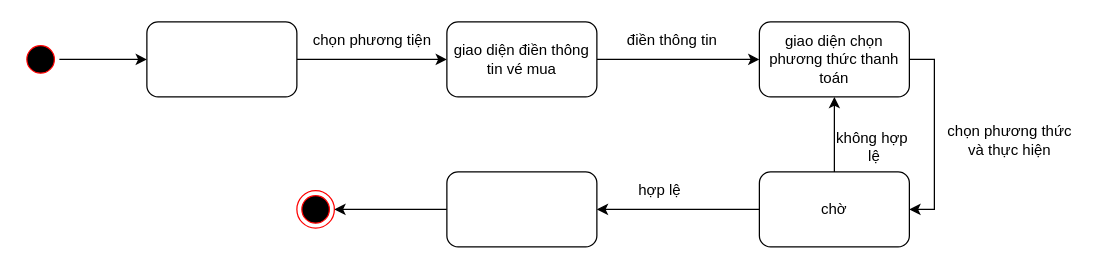
Some shapes in this 1106 by 269 pixel diagram are drawn without their labels. The shapes that lost their labels are listed below. From the top down, each one's centre as x and y in pixels, then its label:
At (x=221, y=59): "giao diện chọn phương tiện".
At (x=521, y=209): "thông báo thành công".
